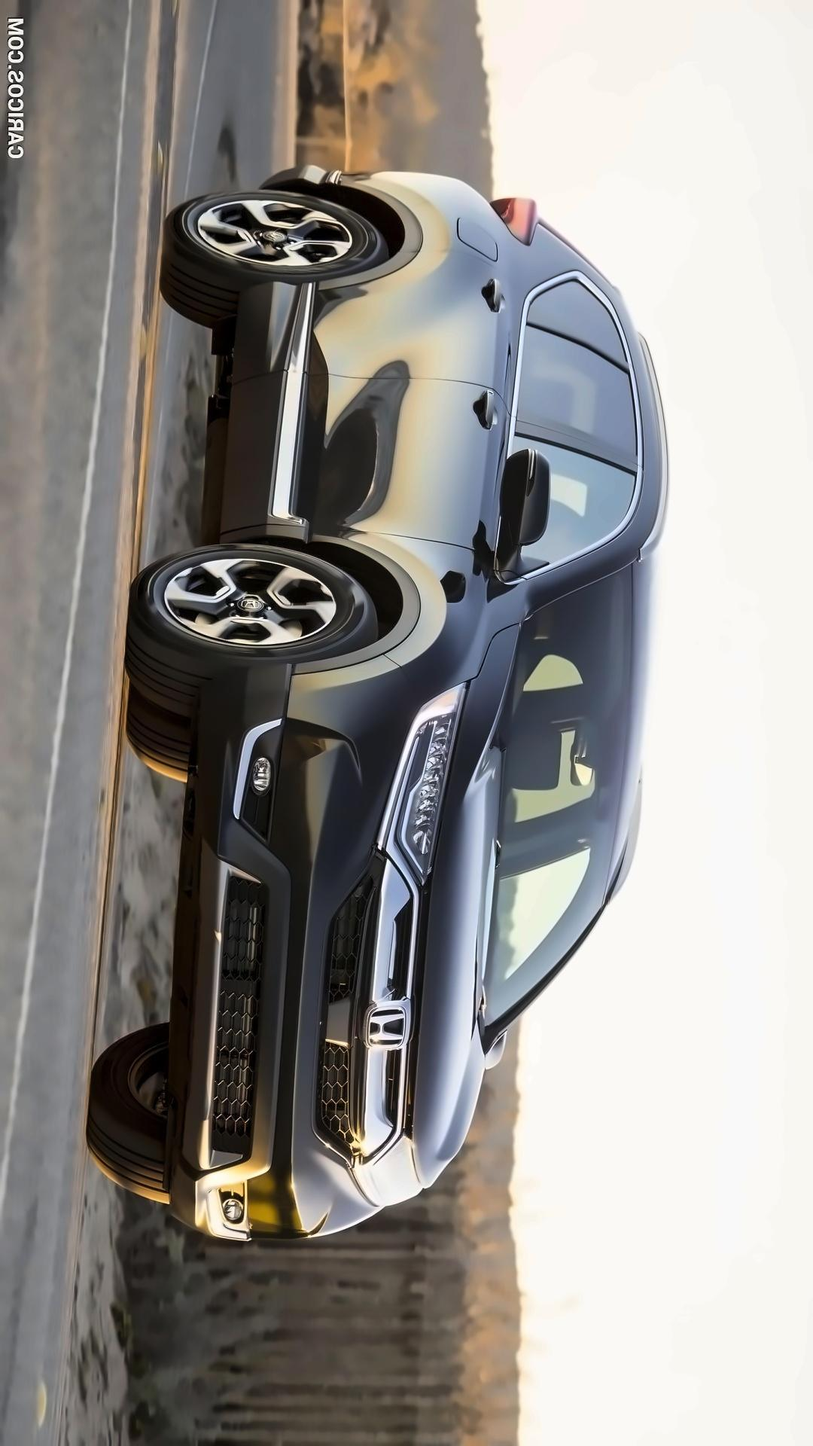Car hood: (407, 608, 515, 1205)
Driver-s door - -F-R-: (274, 372, 658, 534)
Fender - -F-R-: (221, 528, 544, 696)
Fender - -R-R-: (374, 169, 510, 251)
Front bumper: (158, 661, 396, 1259)
Headlight - -L-: (331, 1112, 430, 1216)
Headlight - -R-: (364, 673, 478, 906)
Passenger-s door - -R-R-: (289, 244, 654, 372)
Rear bumper: (236, 138, 392, 208)
Rear light - -R-: (477, 174, 549, 247)
Side bumper - -R-: (204, 256, 325, 550)
Side mirror - -R-: (472, 437, 563, 578)
